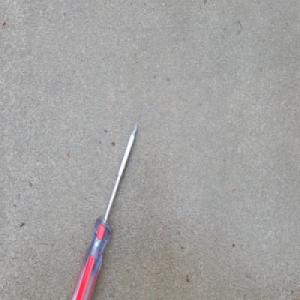Screwdriver: (68, 121, 139, 299)
